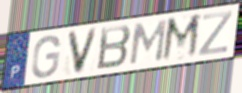B: (95, 23, 133, 72)
G: (30, 34, 63, 80)
M: (160, 12, 203, 65), (127, 18, 168, 67)
V: (66, 26, 101, 76)
Z: (197, 9, 235, 58)
